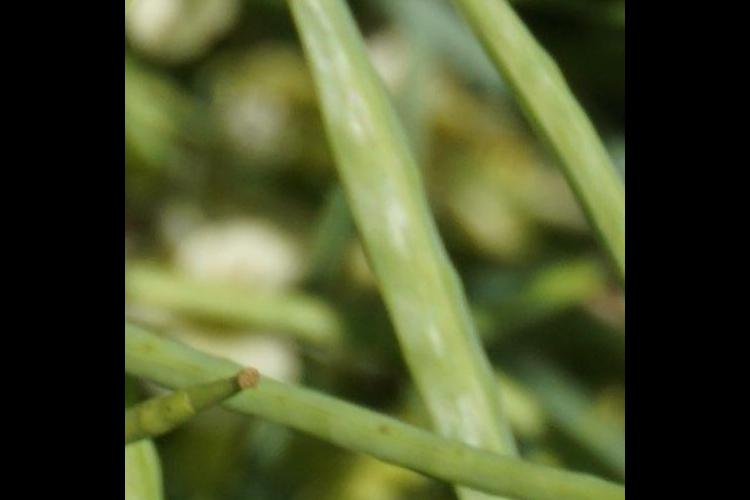pod: (148, 352, 284, 455)
